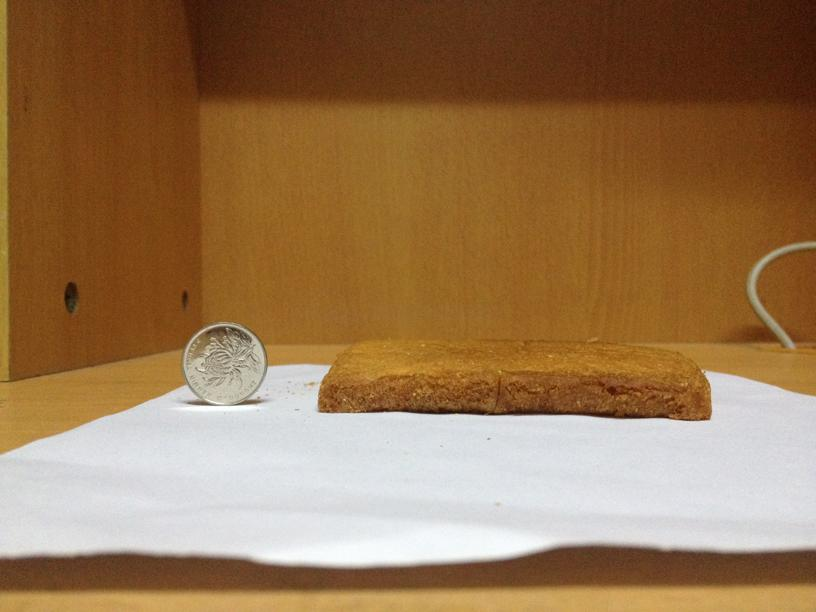bread: (313, 333, 714, 420)
coin: (175, 322, 266, 404)
